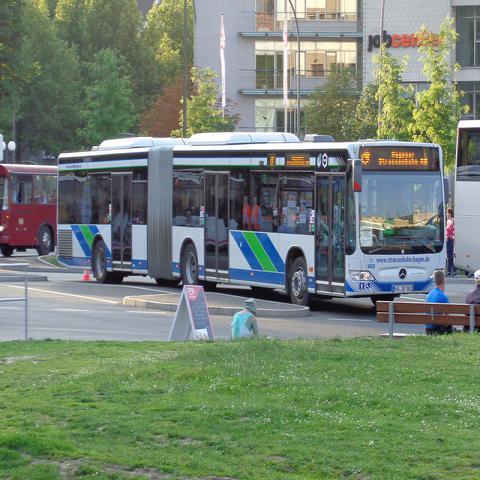bus: (55, 124, 450, 312), (1, 162, 58, 258), (452, 119, 479, 274)
